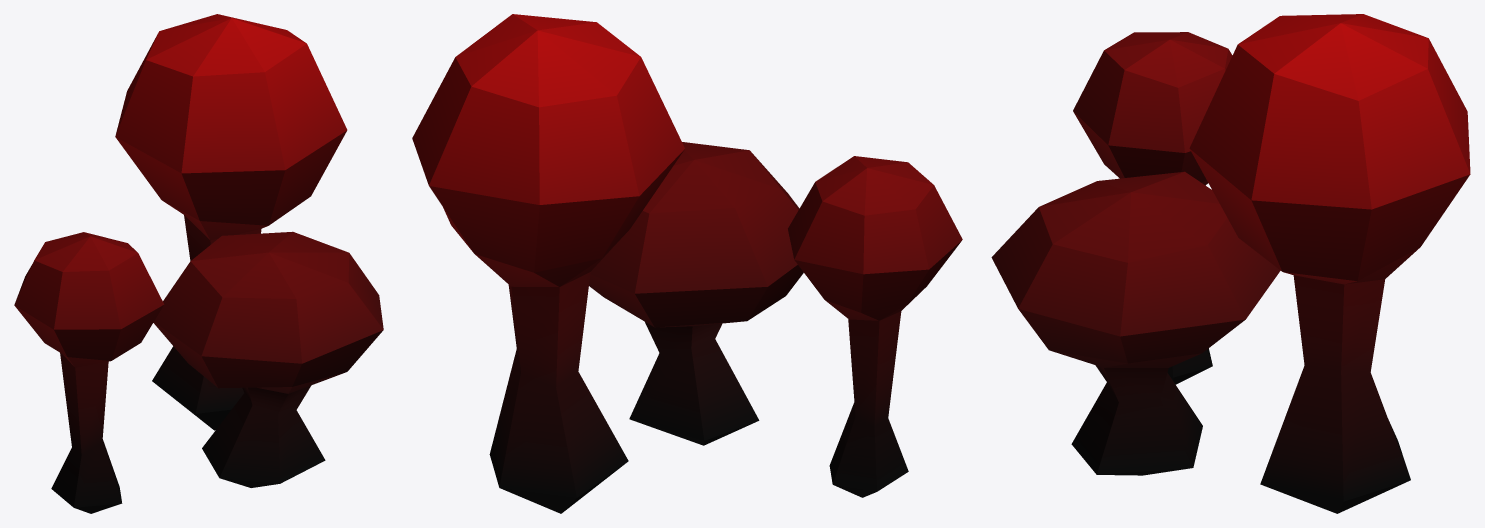
The model's file is SM_Env_Plant_Balloon_Group_03.fbx.
The picture shows the model from 3 angles, left to right: view 1: azimuth 30°, elevation 25°; view 2: azimuth 150°, elevation 25°; view 3: azimuth 270°, elevation 25°; orthographic projection. The views are drawn at different scales.
Parts seen in each view (by area): view 1: SM_Env_Plant_Balloon_Group_03; view 2: SM_Env_Plant_Balloon_Group_03; view 3: SM_Env_Plant_Balloon_Group_03.
Boxes of the visible parts, x1,y1,x2,y2 form: SM_Env_Plant_Balloon_Group_03: (14,14,383,513); SM_Env_Plant_Balloon_Group_03: (412,14,962,513); SM_Env_Plant_Balloon_Group_03: (991,14,1470,513).
Size of the model in its own units: 59.64 by 62.87 by 54.36.
